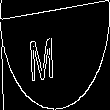M_N: (41, 28, 69, 82)
